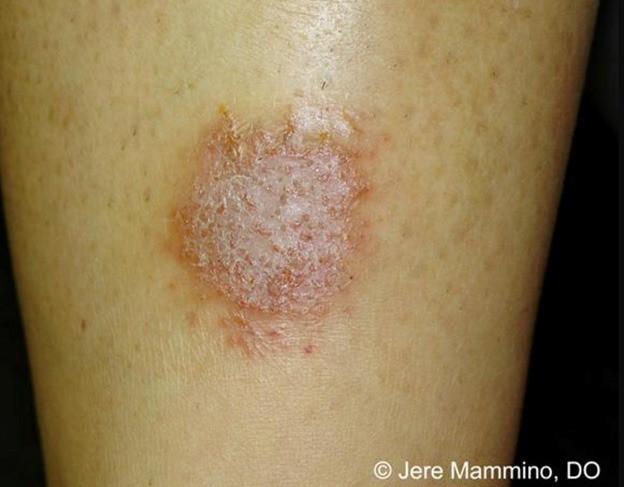Ringworm: (180, 104, 375, 339)
